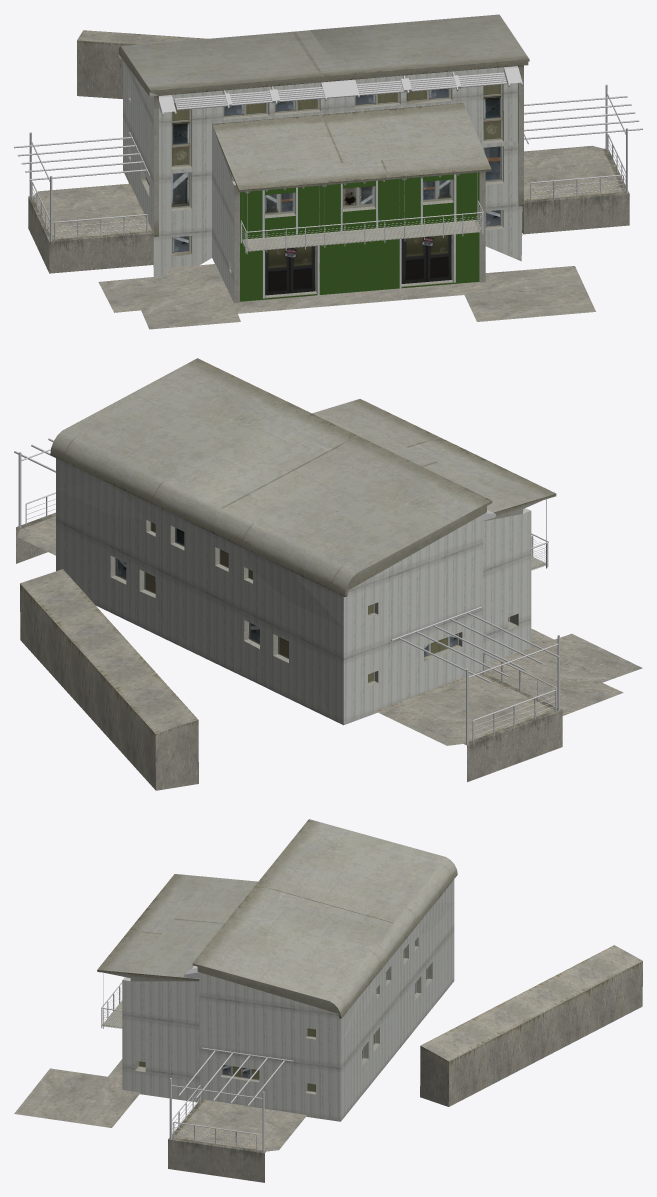
3 renders of one model, top to bottom at view 1: azimuth 30°, elevation 25°; view 2: azimuth 150°, elevation 25°; view 3: azimuth 270°, elevation 25°, orthographic. The views are drawn at different scales.
Visible parts, largest first — view 1: TBuilding_001_KM; view 2: TBuilding_001_KM; view 3: TBuilding_001_KM.
Boxes of the visible parts, box(x1,y1,x2,y2) form: TBuilding_001_KM: box(14, 14, 642, 329); TBuilding_001_KM: box(14, 358, 642, 790); TBuilding_001_KM: box(14, 819, 642, 1182).
Bounding box in the file's own units: 7.16 × 2.65 × 7.81.
